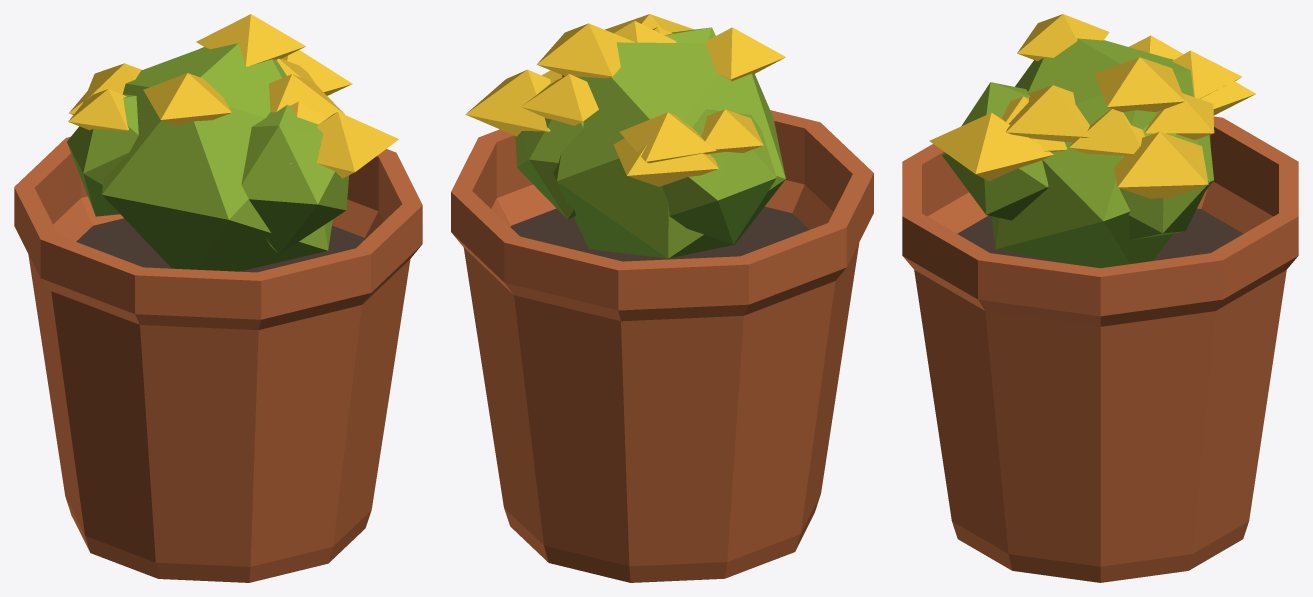
Rendered from SM_Street_Pot_Round_S_FlowerYellow_01.gltf.
3 views of the same model, side by side, from view 1: azimuth 30°, elevation 25°; view 2: azimuth 150°, elevation 25°; view 3: azimuth 270°, elevation 25° (orthographic). The views are drawn at different scales.
Visible parts, largest first — view 1: SM_Street_Pot_Round_S_FlowerYellow_01; view 2: SM_Street_Pot_Round_S_FlowerYellow_01; view 3: SM_Street_Pot_Round_S_FlowerYellow_01.
Boxes of the visible parts, x1,y1,x2,y2 form: SM_Street_Pot_Round_S_FlowerYellow_01: (14,14,422,582); SM_Street_Pot_Round_S_FlowerYellow_01: (451,14,873,582); SM_Street_Pot_Round_S_FlowerYellow_01: (902,14,1298,582).
Bounding box in the file's own units: 0.24 × 0.3101 × 0.2283.
1 material, 1 textured.
